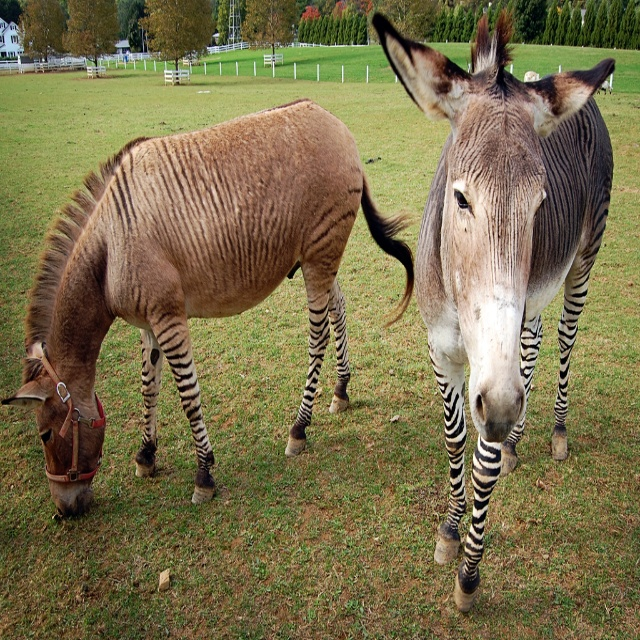Zebra: (1, 98, 421, 520), (372, 5, 616, 617)
